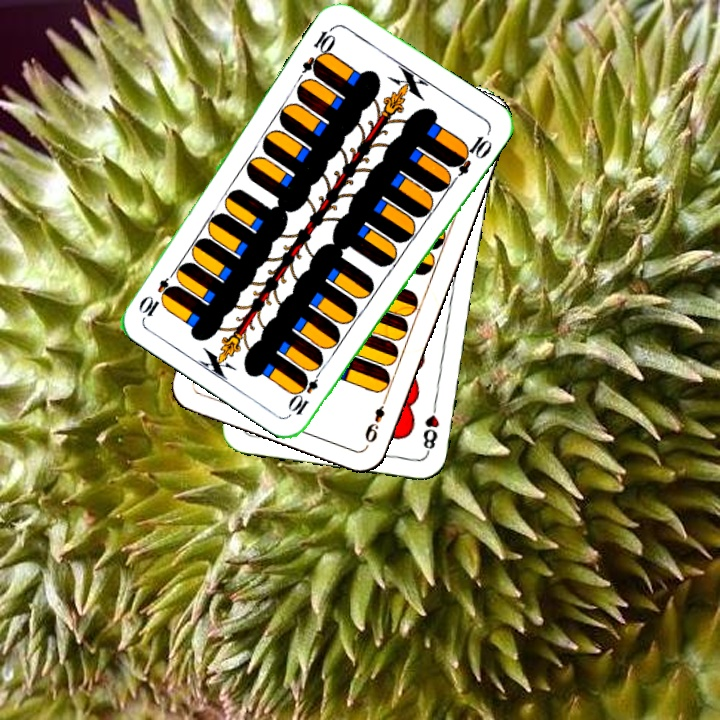E10: (298, 22, 339, 78), (287, 363, 326, 418)
E9: (360, 391, 391, 446)
H8: (419, 397, 442, 456)
